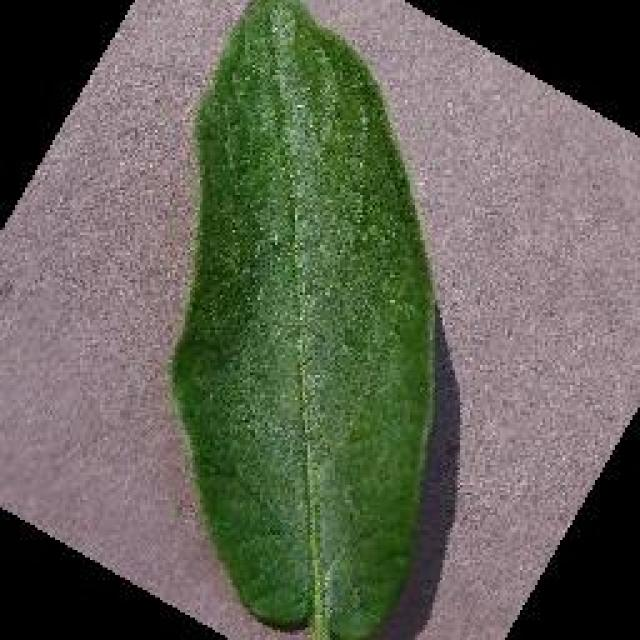Potato___healthy: (159, 0, 438, 638)
